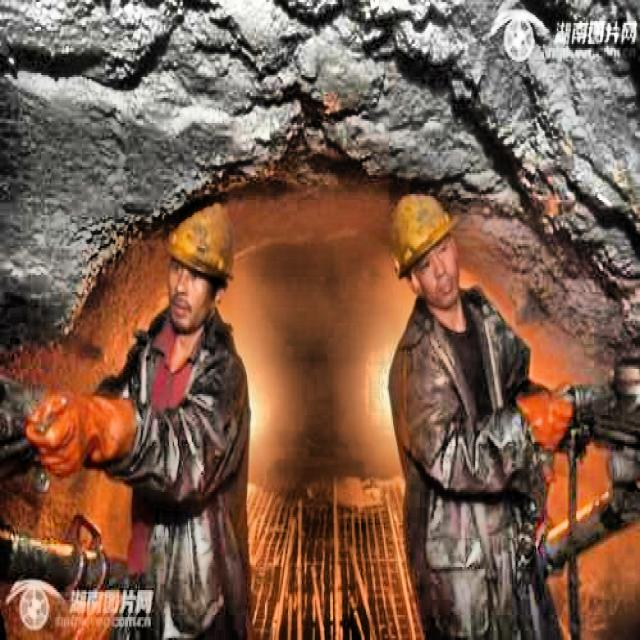helmet: (385, 192, 466, 319), (163, 219, 233, 325)
